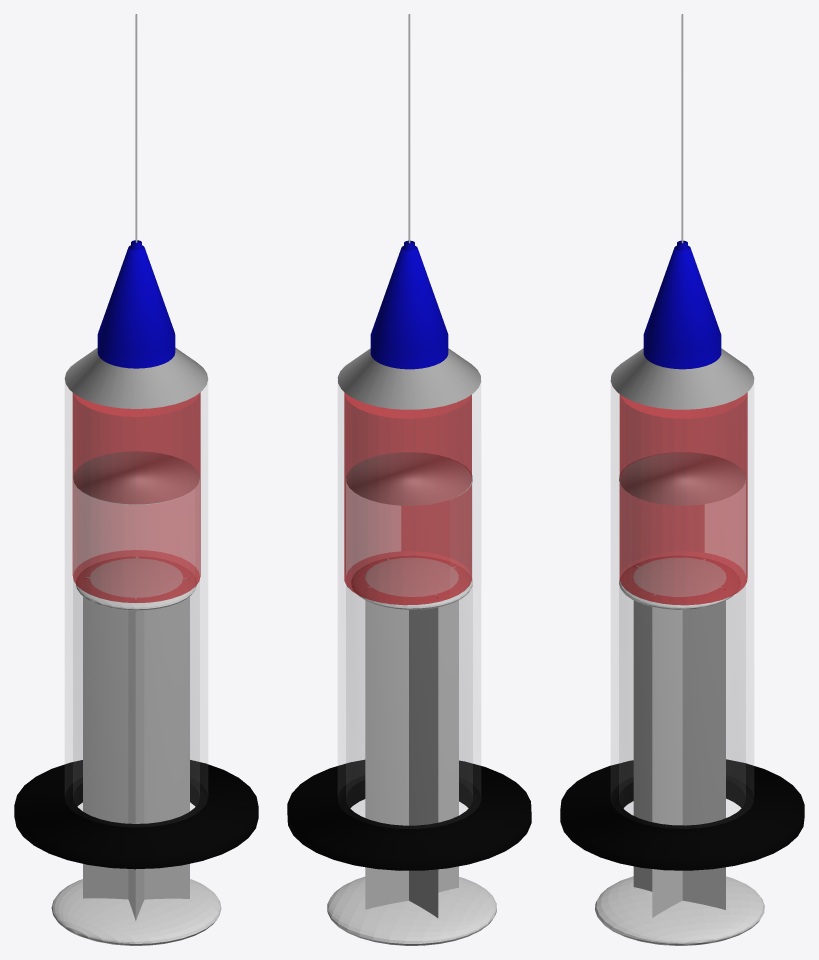
File: Syringe.fbx
3 renders of one model, left to right at view 1: azimuth 30°, elevation 25°; view 2: azimuth 150°, elevation 25°; view 3: azimuth 270°, elevation 25°, orthographic.
Parts seen in each view (by area): view 1: Cube.002; view 2: Cube.002; view 3: Cube.002.
Boxes of the visible parts, <box> form: Cube.002: <box>14,14,258,945</box>; Cube.002: <box>287,14,531,945</box>; Cube.002: <box>560,14,804,945</box>.
Size of the model in its own units: 230 by 940 by 230.
